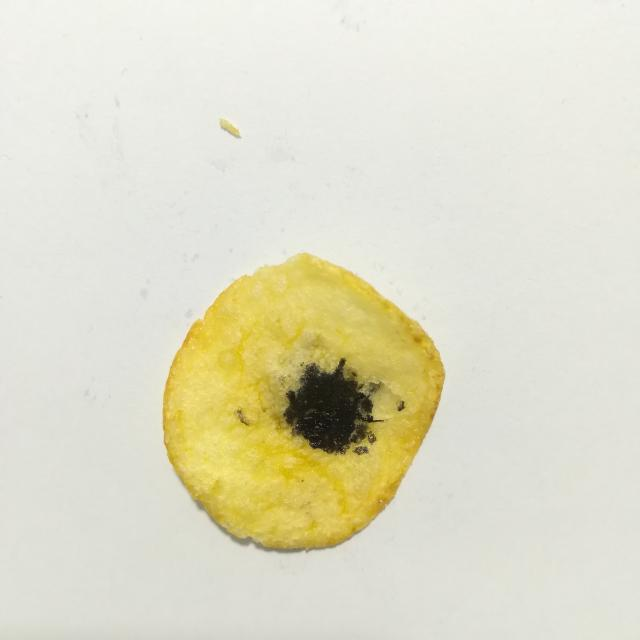chip: (163, 254, 445, 549)
damaged: (284, 358, 382, 454), (353, 445, 369, 455), (367, 431, 376, 444), (397, 400, 405, 411)
semi-damaged: (268, 328, 341, 415), (360, 382, 382, 398), (235, 409, 249, 425)
